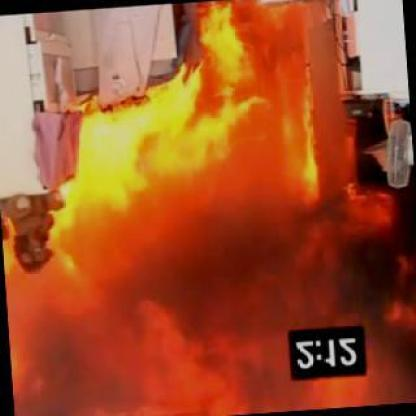Fire: (0, 0, 285, 289)
